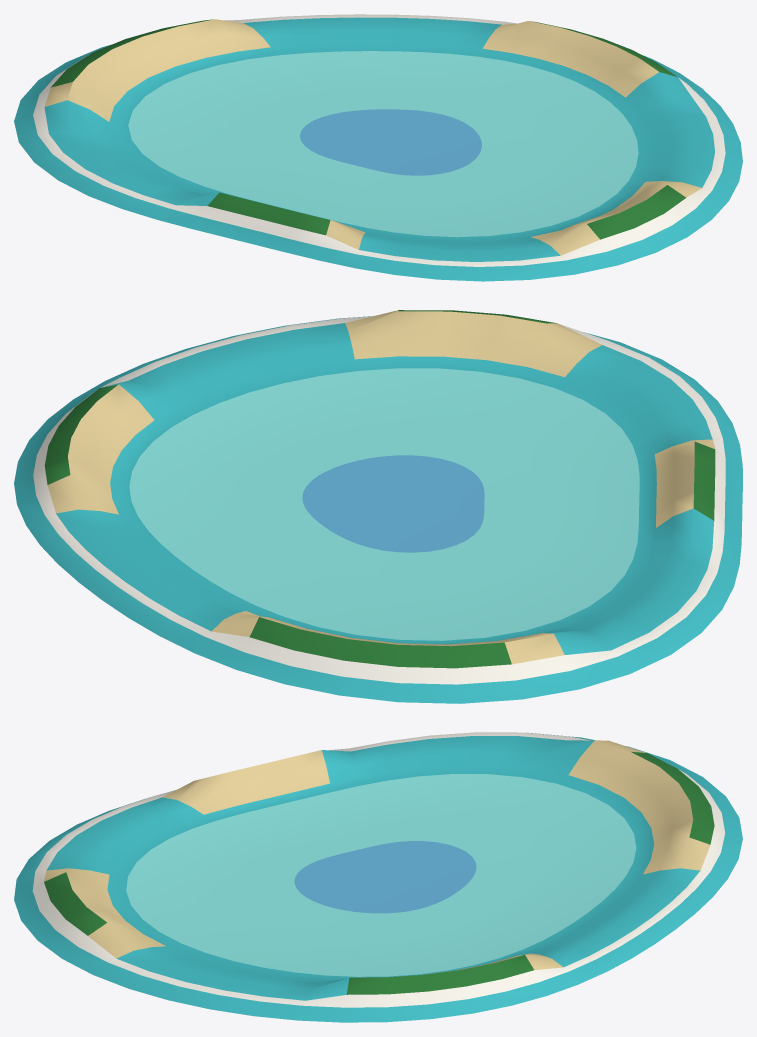
File: atoll.glb
The picture shows the model from 3 angles, top to bottom: view 1: azimuth 30°, elevation 25°; view 2: azimuth 150°, elevation 25°; view 3: azimuth 270°, elevation 25°; orthographic projection. The views are drawn at different scales.
Visible parts, largest first — view 1: body; view 2: body; view 3: body.
Boxes of the visible parts, <box> form: body: <box>14,14,742,281</box>; body: <box>14,310,742,703</box>; body: <box>14,732,742,1022</box>.
Size of the model in its own units: 79.89 by 3.2 by 84.91.
